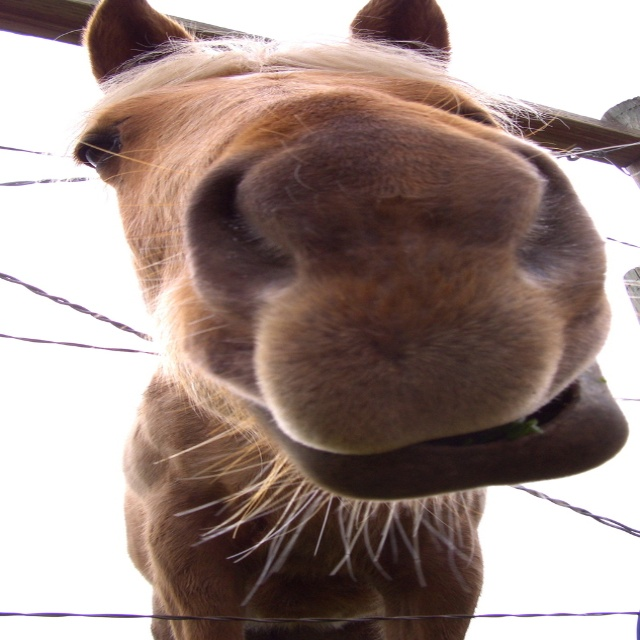Horse: (32, 0, 640, 640)
